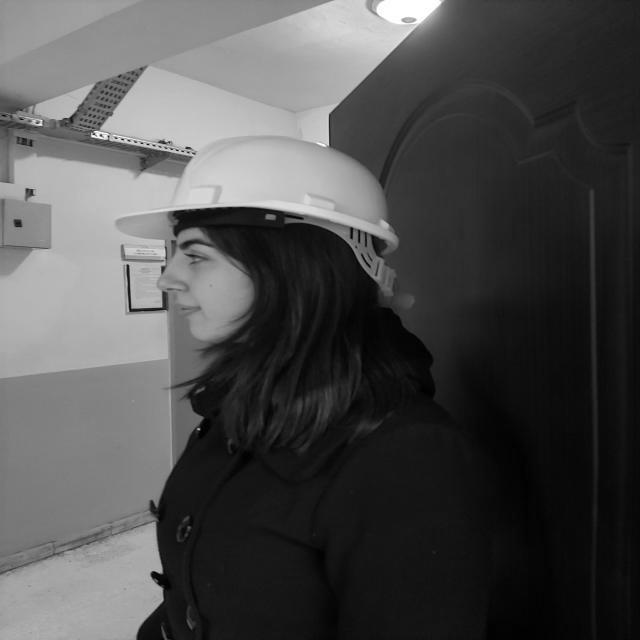construction helmet: (113, 135, 400, 296)
